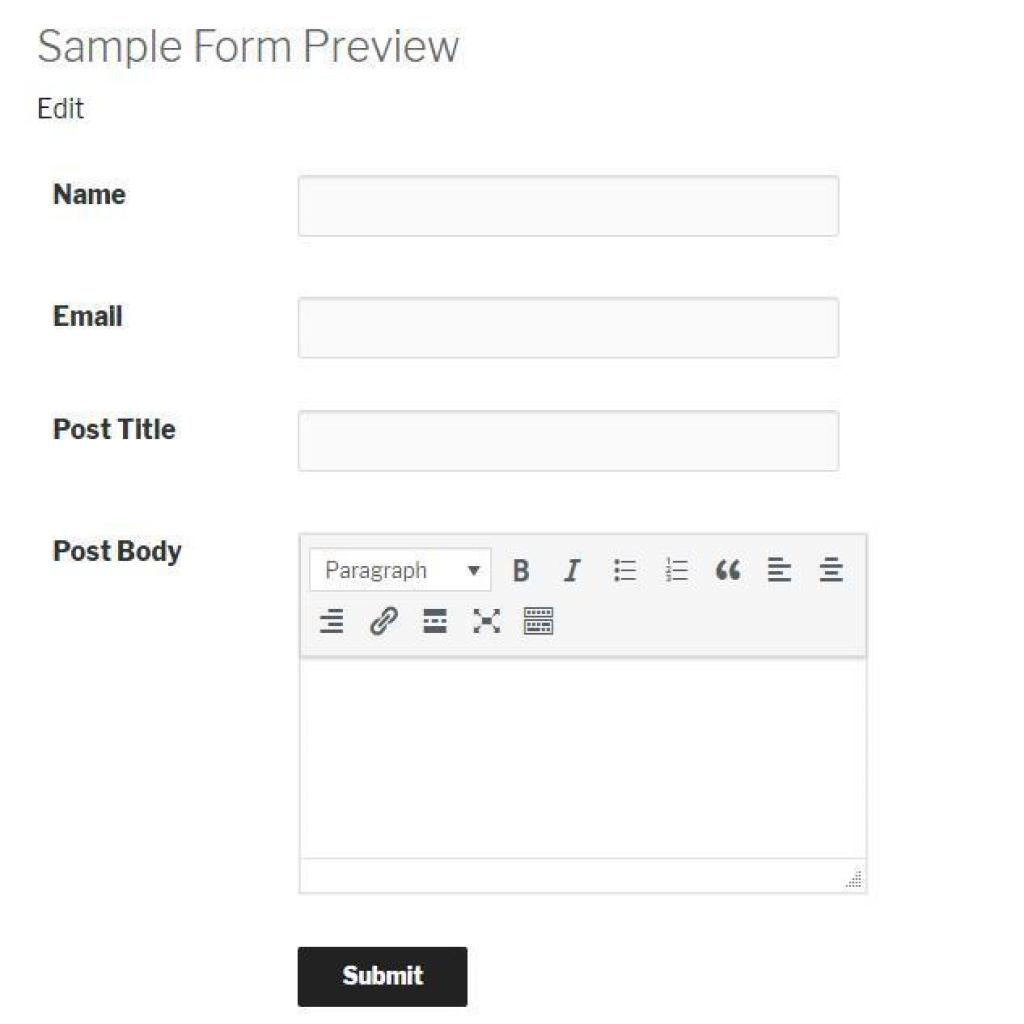button: (298, 947, 468, 1008)
input: (296, 292, 838, 364), (296, 172, 840, 238), (296, 406, 838, 472)
label: (34, 22, 466, 79), (47, 405, 184, 454), (44, 532, 186, 571), (54, 292, 126, 340), (49, 177, 131, 214)
